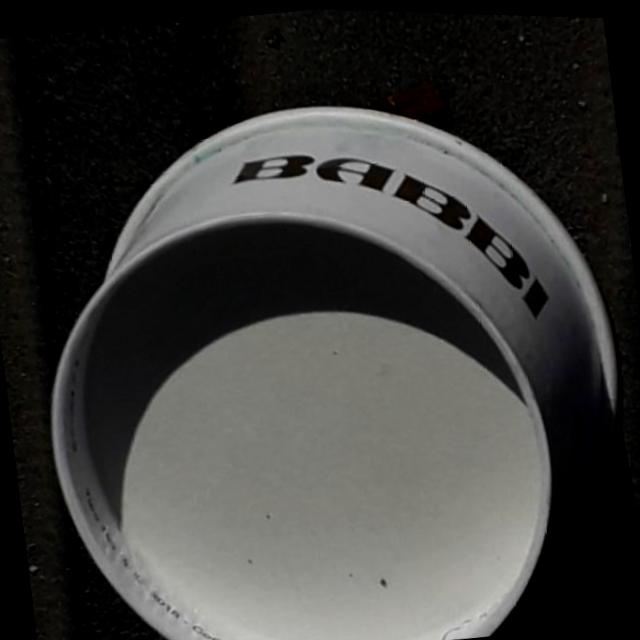Paper: (4, 60, 640, 640)
